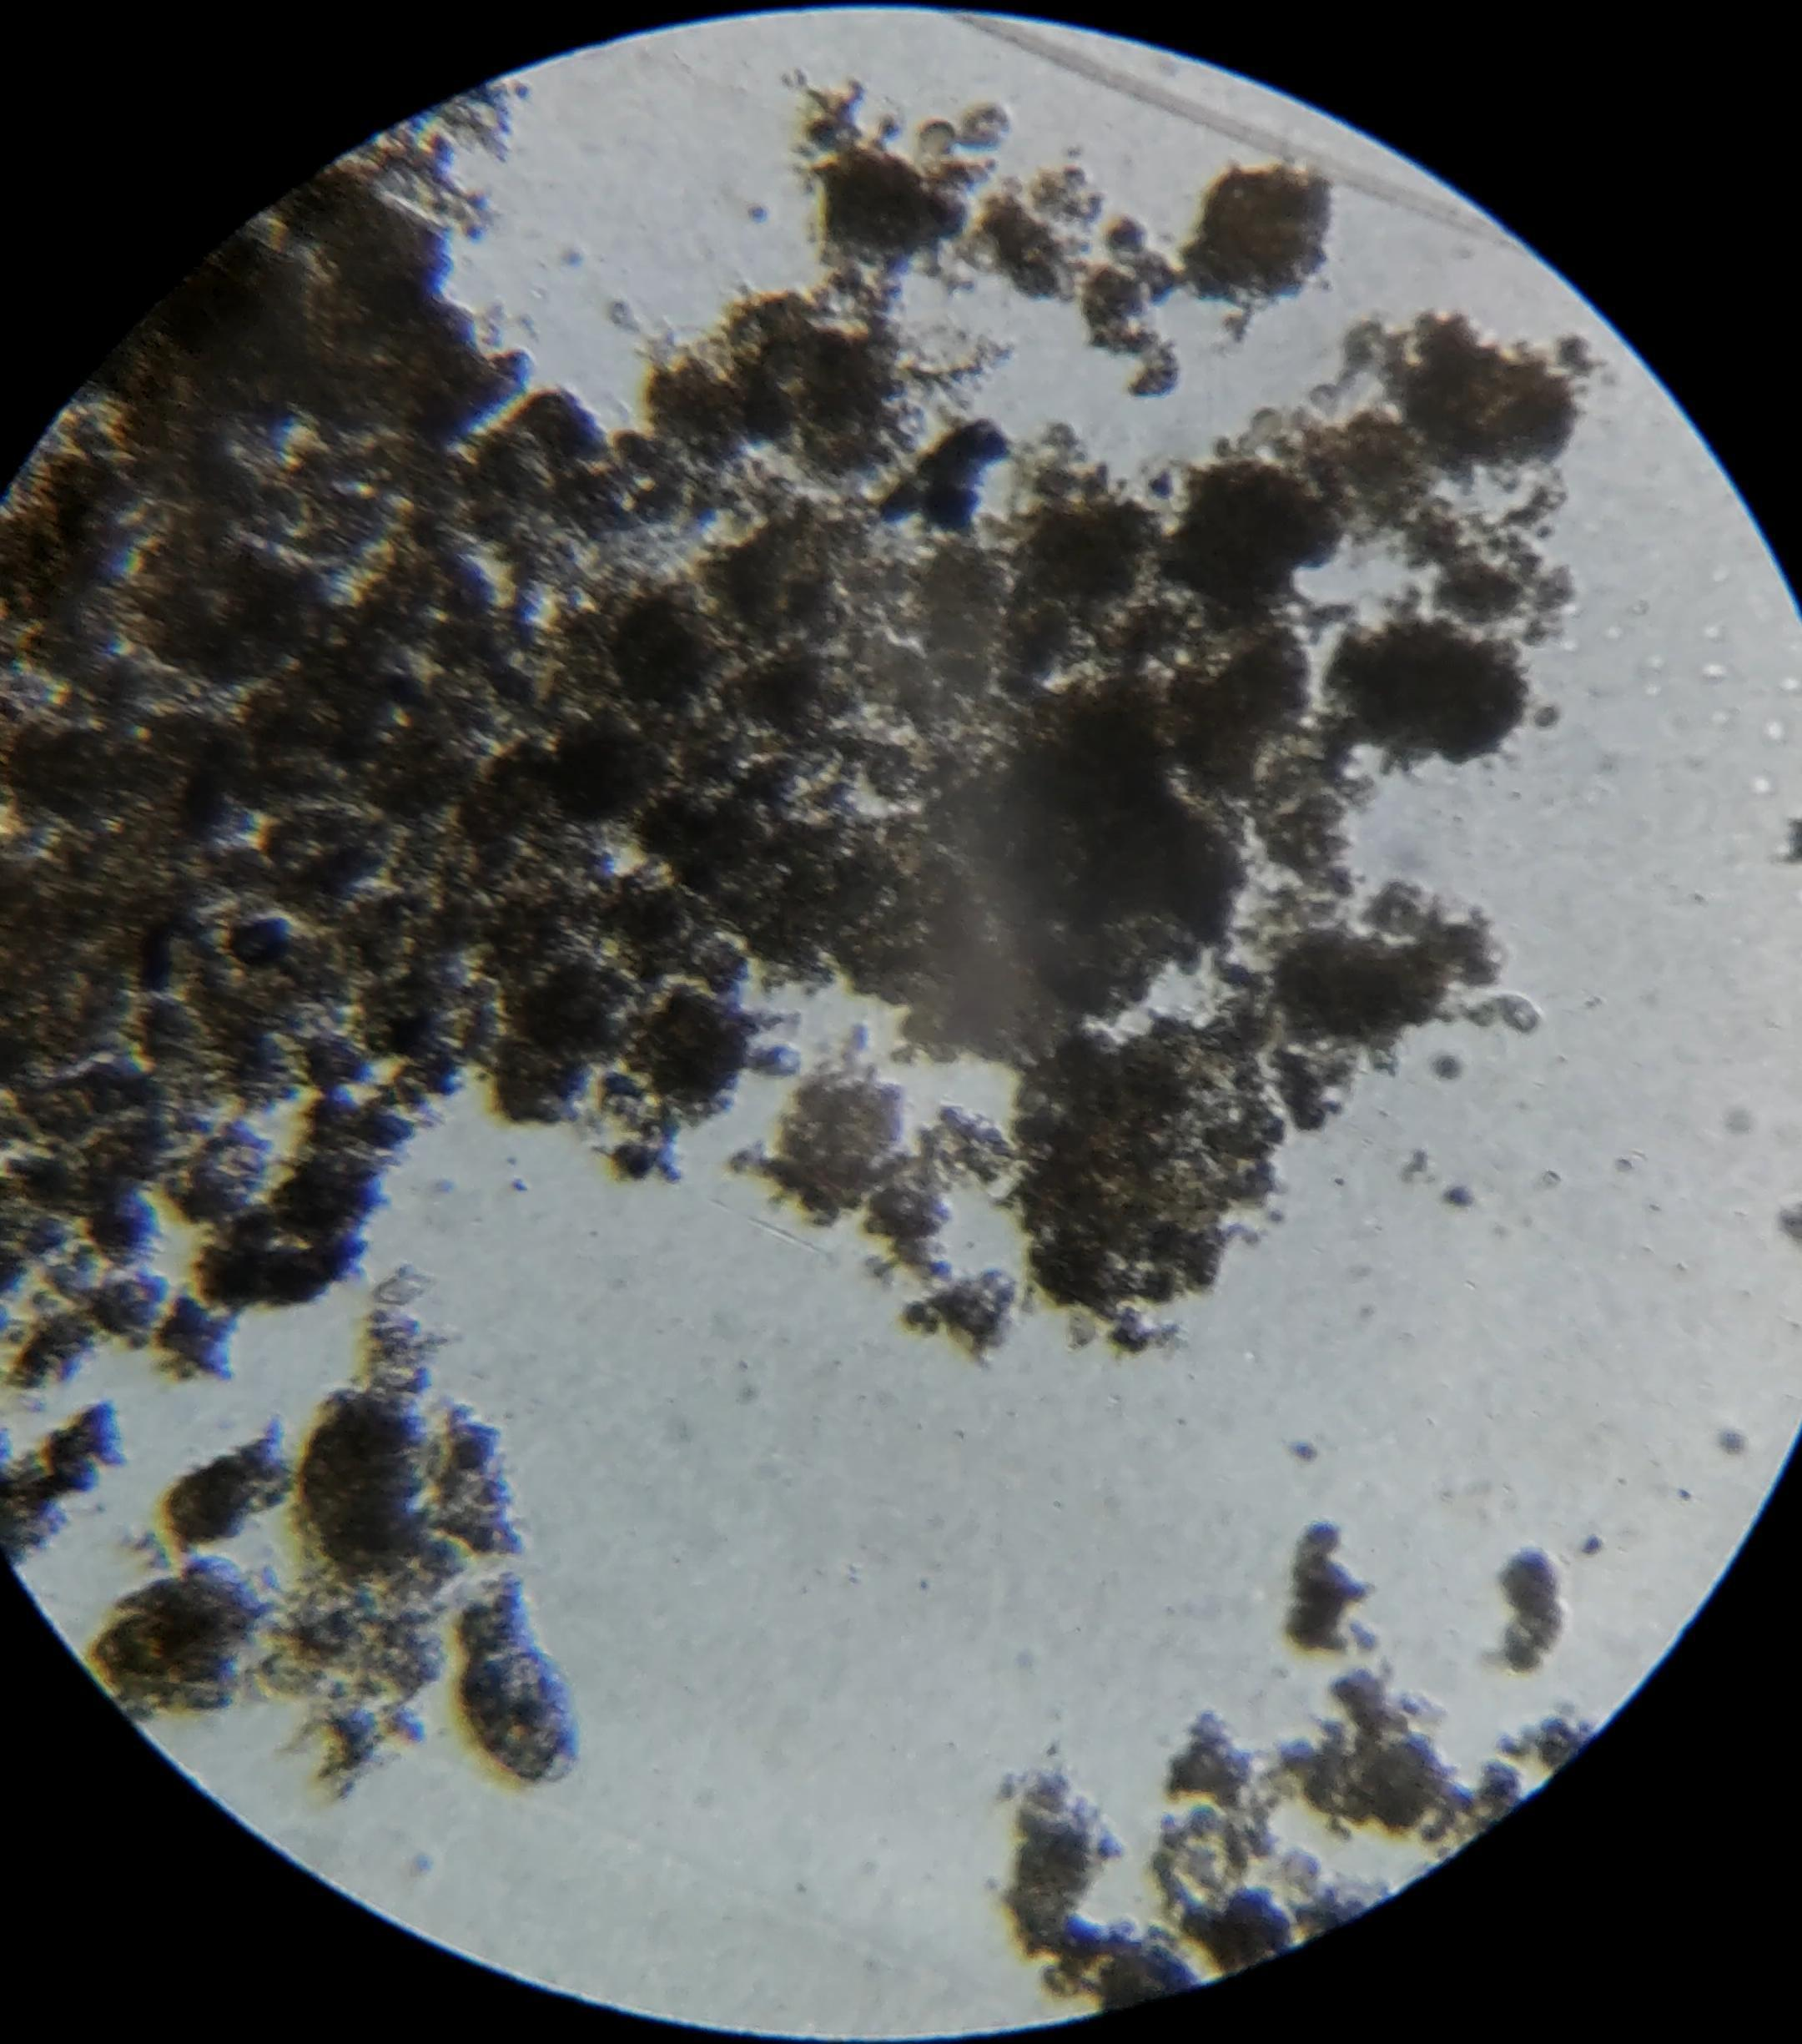Mo: (454, 1585, 577, 1785)
